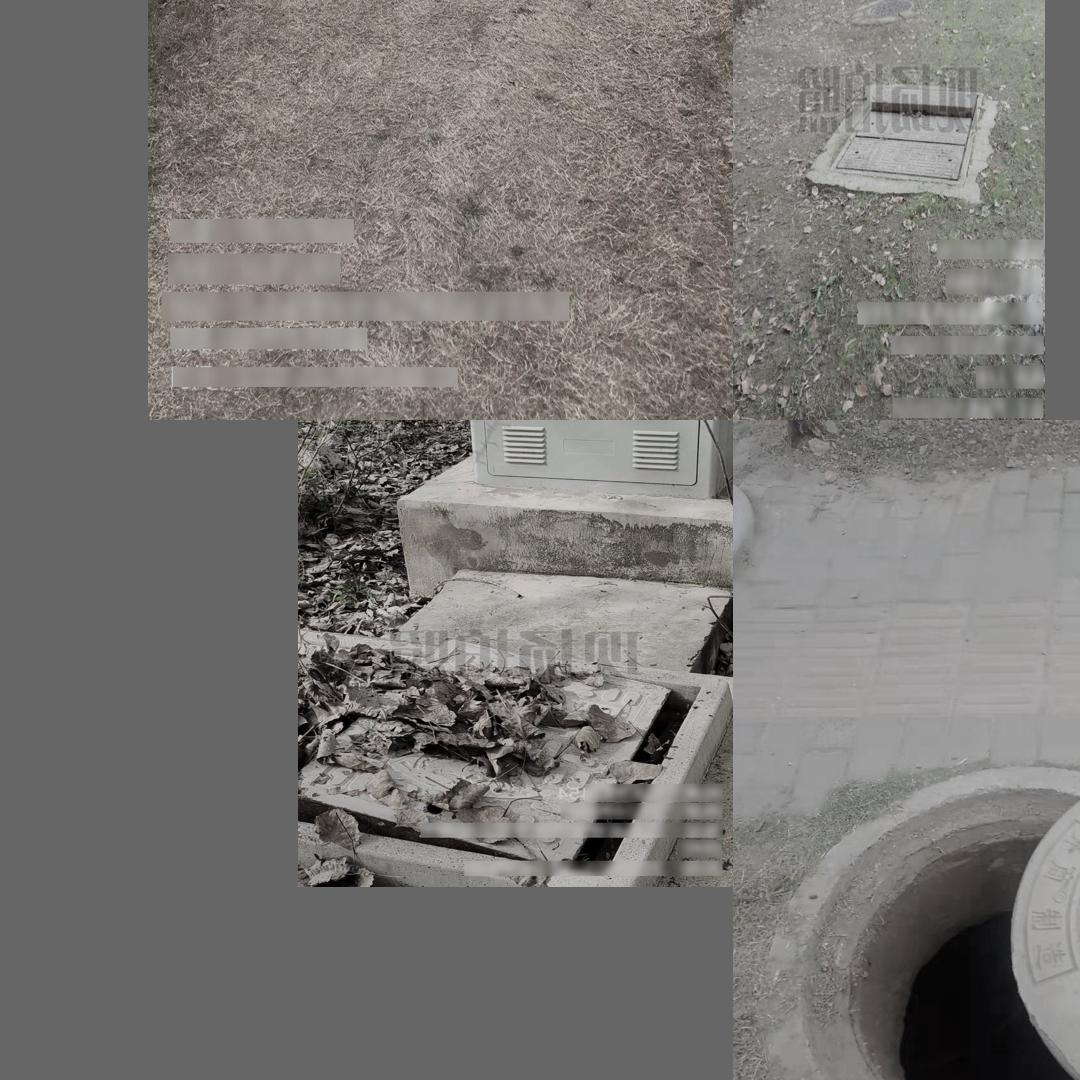good: (858, 0, 914, 24)
uncovered: (303, 630, 726, 887), (763, 762, 1080, 1080), (827, 84, 985, 188)
